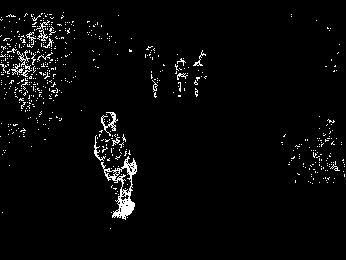person: (93, 111, 138, 218), (174, 54, 189, 98)
